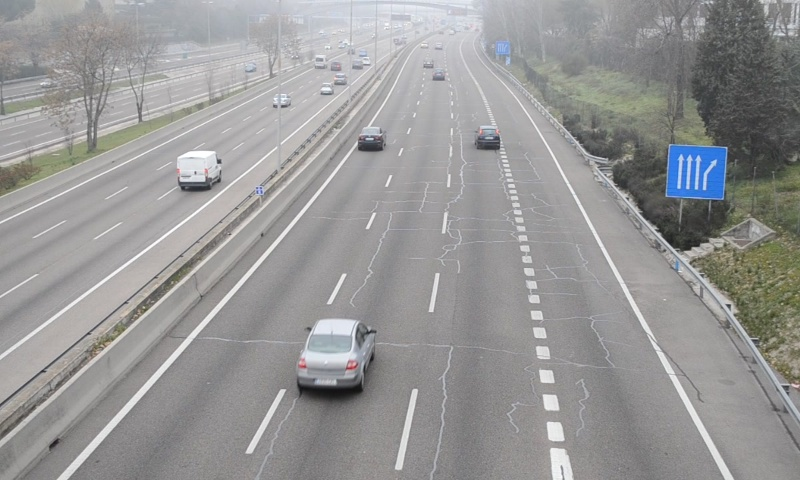car: (298, 318, 374, 392), (357, 126, 386, 151), (475, 124, 500, 149)
